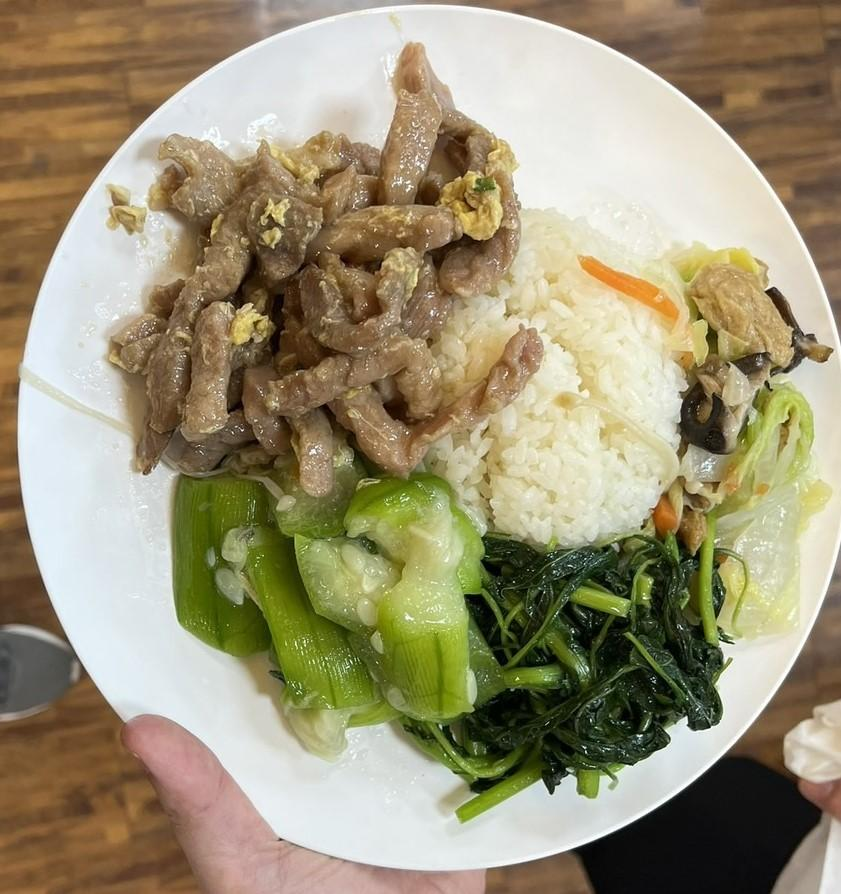big fried chicken leg: (18, 8, 841, 869)
big herbal chicken leg: (447, 207, 680, 542)
braised fish fillet: (168, 458, 479, 750), (463, 524, 726, 817), (684, 232, 821, 637)
braised pork: (114, 36, 522, 470)
